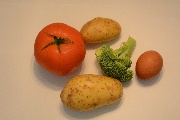broccoli: (95, 39, 137, 81)
egg: (135, 49, 162, 78)
potato: (59, 73, 123, 110), (80, 18, 122, 43)
tomato: (33, 23, 86, 75)
